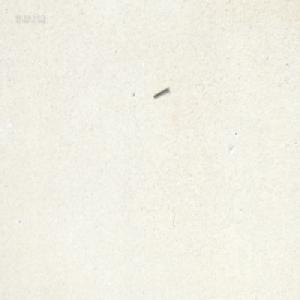Bolt: (152, 84, 168, 97)
